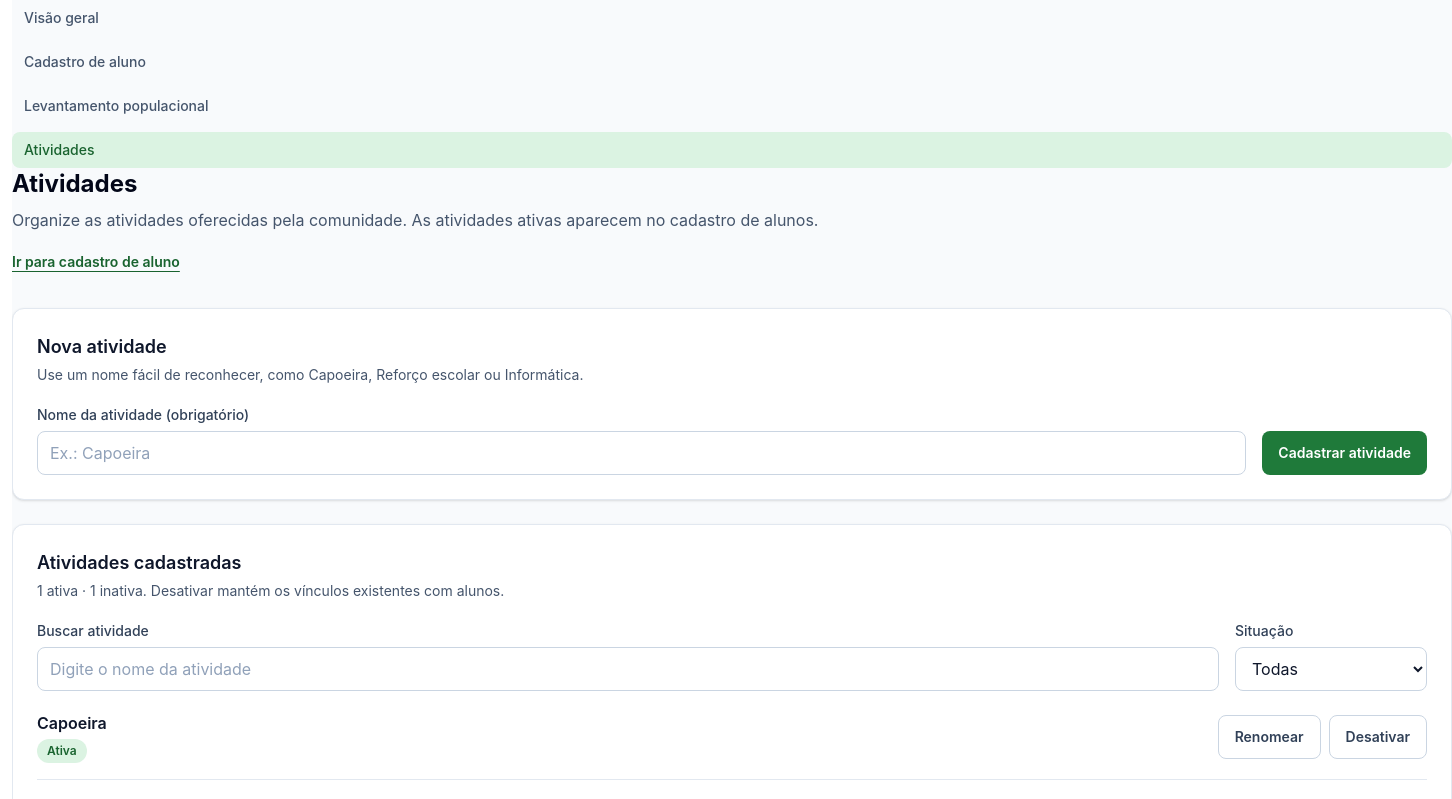
Scenario: impede nomes vazios e duplicados, inclusive inativos
Expected: the field labelled "Nome da atividade (obrigatório)" is shown, [37, 431, 1246, 475]
Click the button "Cadastrar atividade": [1345, 453] box [1262, 431, 1427, 475]
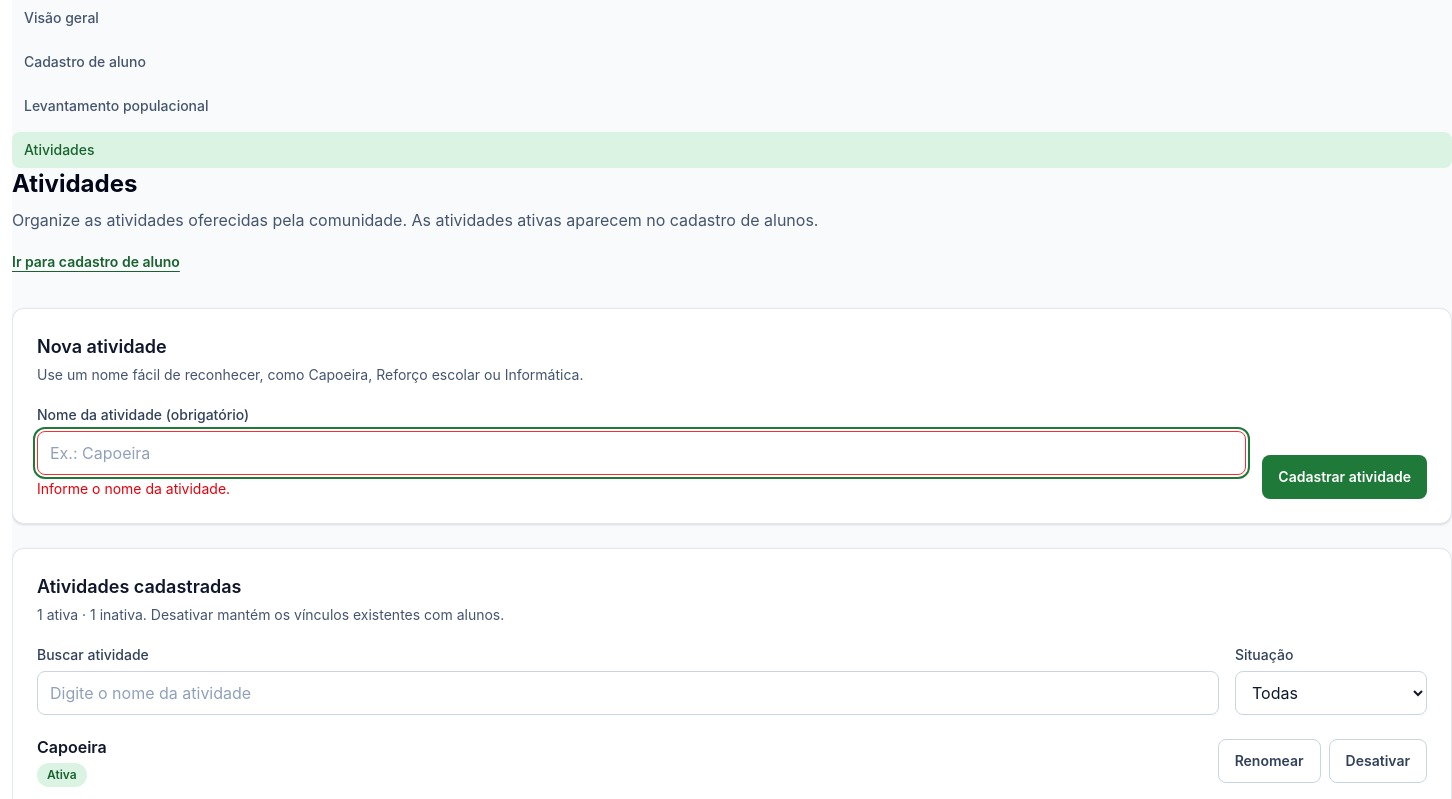
Now the text "Informe o nome da atividade." is shown, box [37, 480, 230, 497]
In the field labelled "Nome da atividade (obrigatório)": [642, 453] box [37, 431, 1246, 475], type "  música  "
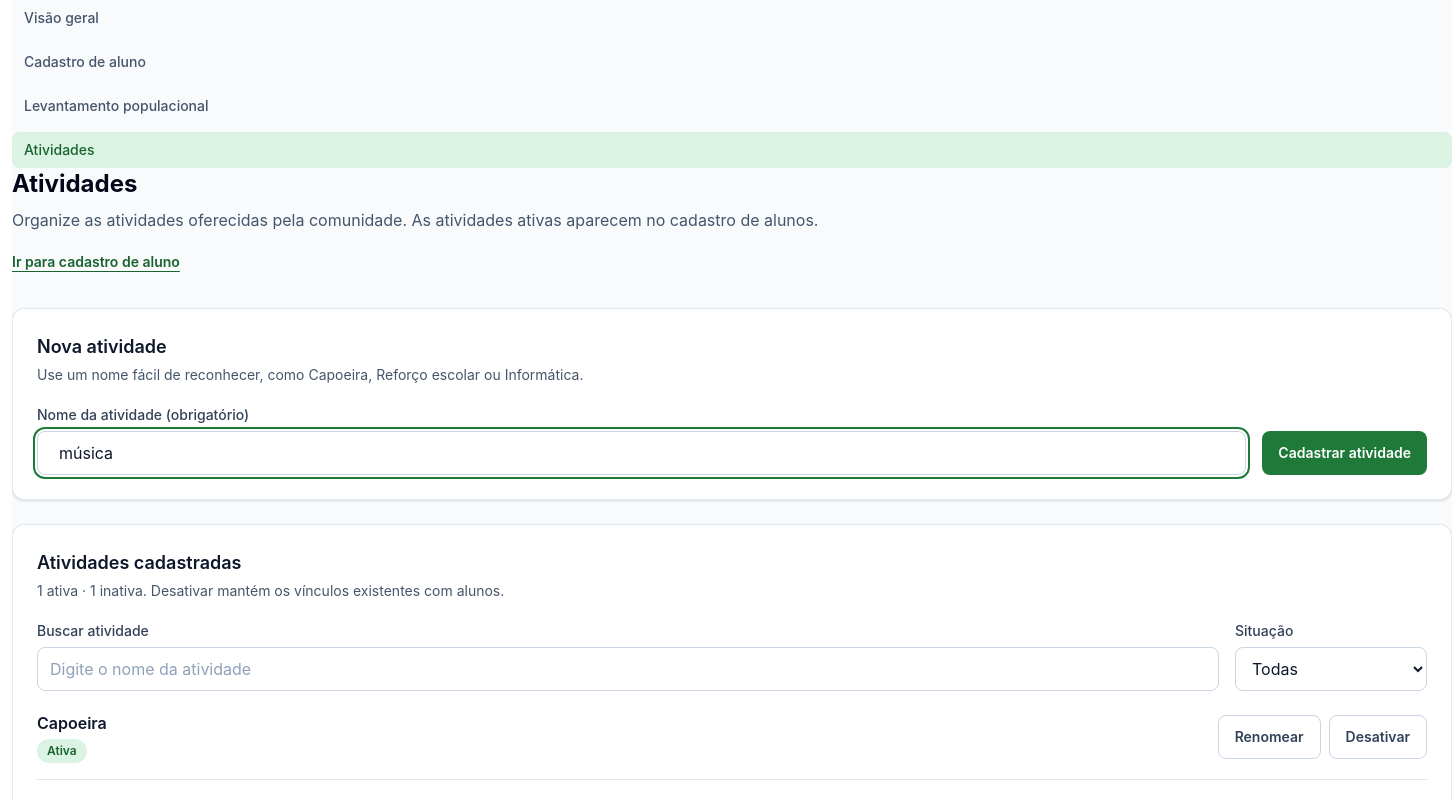
Click the button "Cadastrar atividade": [1345, 453] box [1262, 431, 1427, 475]
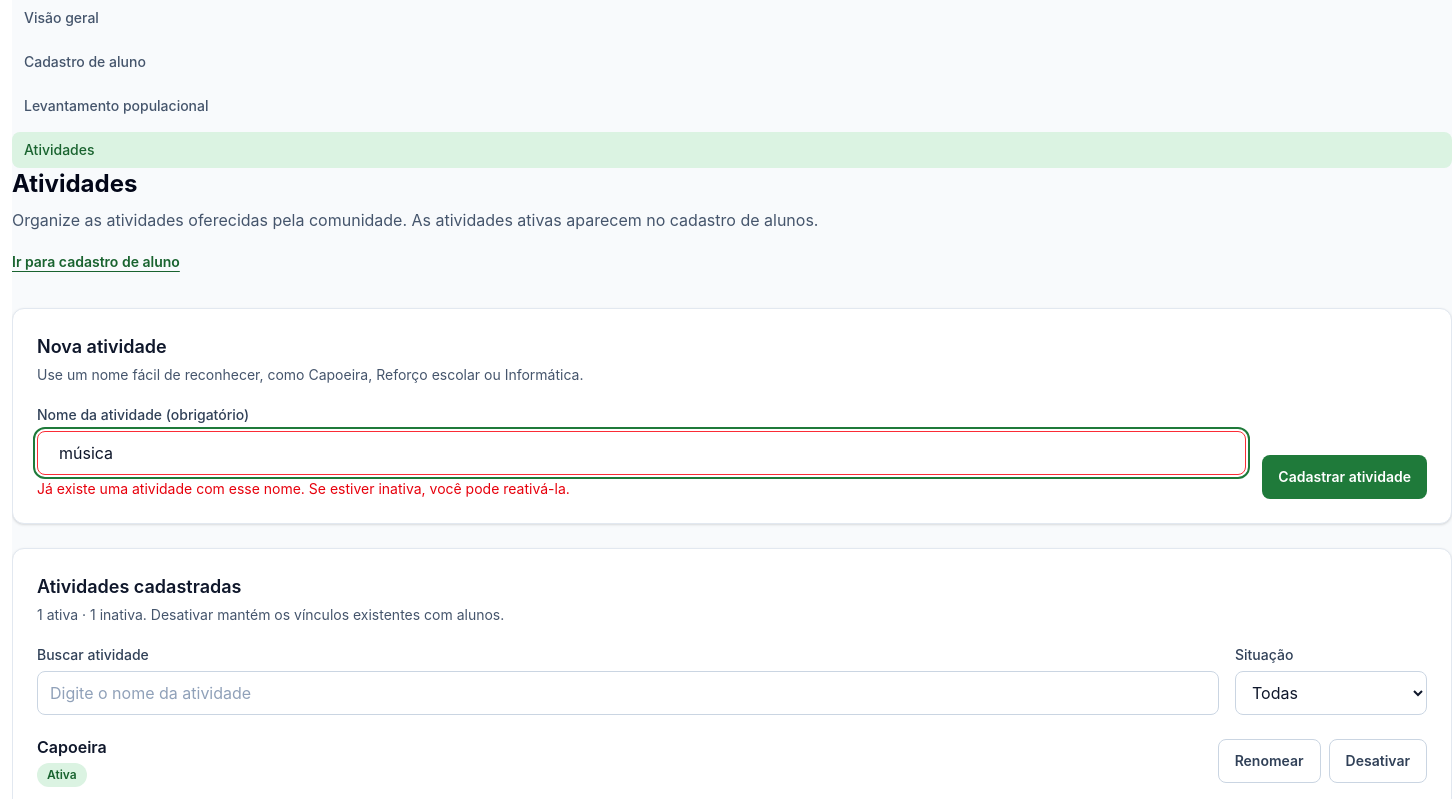
Now the text "Já existe uma atividade com esse nome" is shown, box [37, 480, 570, 497]
